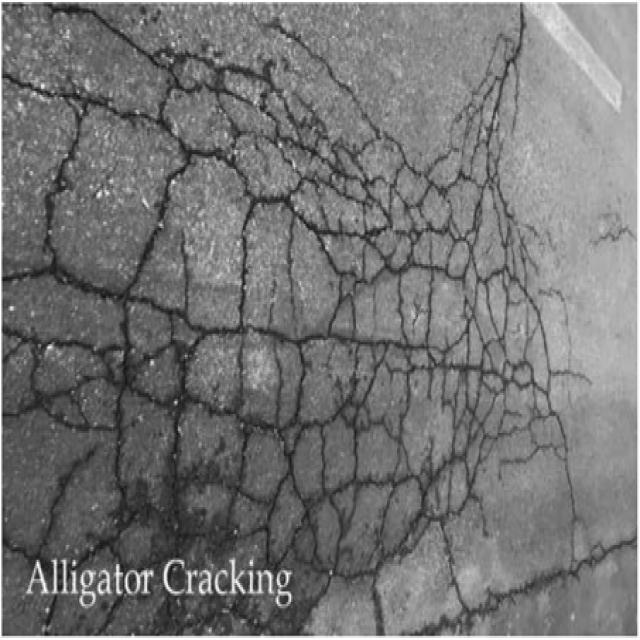Drain Hole: (54, 19, 587, 547)
